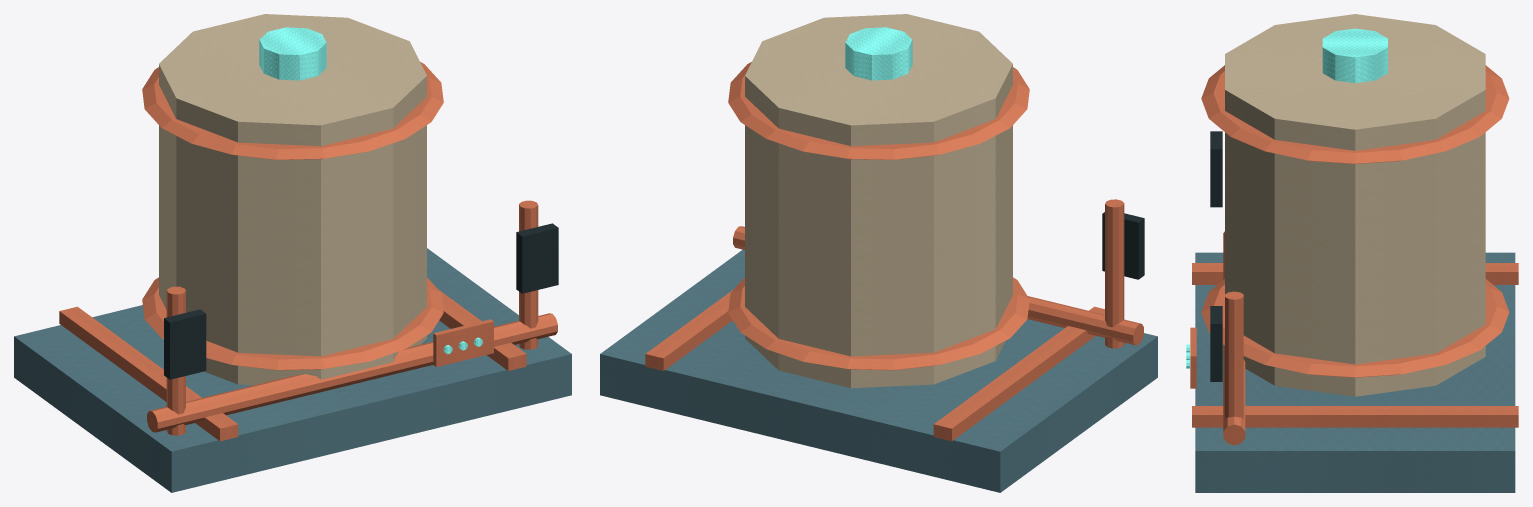
File: atlas100-s045-a02.glb
3 views of the same model, side by side, from view 1: azimuth 30°, elevation 25°; view 2: azimuth 150°, elevation 25°; view 3: azimuth 270°, elevation 25° (orthographic).
Parts seen in each view (by area): view 1: atlas100-s045-a02:part-003, atlas100-s045-a02:part-000, atlas100-s045-a02:part-011, atlas100-s045-a02:part-005, atlas100-s045-a02:part-004, atlas100-s045-a02:part-001, atlas100-s045-a02:part-006, atlas100-s045-a02:part-010, atlas100-s045-a02:part-008, atlas100-s045-a02:part-012, atlas100-s045-a02:part-002, atlas100-s045-a02:part-009 (+1 smaller); view 2: atlas100-s045-a02:part-003, atlas100-s045-a02:part-000, atlas100-s045-a02:part-005, atlas100-s045-a02:part-004, atlas100-s045-a02:part-001, atlas100-s045-a02:part-006, atlas100-s045-a02:part-011, atlas100-s045-a02:part-007, atlas100-s045-a02:part-002, atlas100-s045-a02:part-008; view 3: atlas100-s045-a02:part-003, atlas100-s045-a02:part-000, atlas100-s045-a02:part-002, atlas100-s045-a02:part-005, atlas100-s045-a02:part-004, atlas100-s045-a02:part-006, atlas100-s045-a02:part-009, atlas100-s045-a02:part-001, atlas100-s045-a02:part-011, atlas100-s045-a02:part-008, atlas100-s045-a02:part-010, atlas100-s045-a02:part-012.
Boxes of the visible parts, box(x1,y1,x2,y2) form: atlas100-s045-a02:part-003: box(159, 14, 426, 385); atlas100-s045-a02:part-000: box(14, 248, 571, 492); atlas100-s045-a02:part-011: box(147, 313, 557, 432); atlas100-s045-a02:part-005: box(142, 62, 443, 159); atlas100-s045-a02:part-004: box(142, 277, 443, 370); atlas100-s045-a02:part-001: box(59, 306, 238, 441); atlas100-s045-a02:part-006: box(259, 27, 326, 80); atlas100-s045-a02:part-010: box(516, 223, 558, 293); atlas100-s045-a02:part-008: box(164, 309, 206, 379); atlas100-s045-a02:part-012: box(433, 319, 493, 366); atlas100-s045-a02:part-002: box(438, 289, 526, 370); atlas100-s045-a02:part-009: box(519, 200, 538, 349); atlas100-s045-a02:part-003: box(745, 14, 1012, 388); atlas100-s045-a02:part-000: box(600, 249, 1157, 492); atlas100-s045-a02:part-005: box(728, 62, 1029, 159); atlas100-s045-a02:part-004: box(728, 277, 1029, 370); atlas100-s045-a02:part-001: box(933, 306, 1104, 441); atlas100-s045-a02:part-006: box(845, 27, 912, 80); atlas100-s045-a02:part-011: box(733, 226, 1143, 345); atlas100-s045-a02:part-007: box(1105, 199, 1124, 348); atlas100-s045-a02:part-002: box(645, 289, 733, 370); atlas100-s045-a02:part-008: box(1102, 212, 1144, 279); atlas100-s045-a02:part-003: box(1225, 14, 1485, 396); atlas100-s045-a02:part-000: box(1195, 252, 1515, 492); atlas100-s045-a02:part-002: box(1192, 406, 1518, 427); atlas100-s045-a02:part-005: box(1201, 65, 1509, 163); atlas100-s045-a02:part-004: box(1201, 279, 1509, 377); atlas100-s045-a02:part-006: box(1322, 28, 1387, 83); atlas100-s045-a02:part-009: box(1225, 291, 1243, 418); atlas100-s045-a02:part-001: box(1192, 263, 1518, 284); atlas100-s045-a02:part-011: box(1223, 231, 1245, 445); atlas100-s045-a02:part-008: box(1210, 131, 1222, 207); atlas100-s045-a02:part-010: box(1210, 306, 1222, 381); atlas100-s045-a02:part-012: box(1190, 327, 1196, 388).
Size of the model in its own units: 2.64 by 2.18 by 1.87.
Materials: 5 (5 with a texture image).
